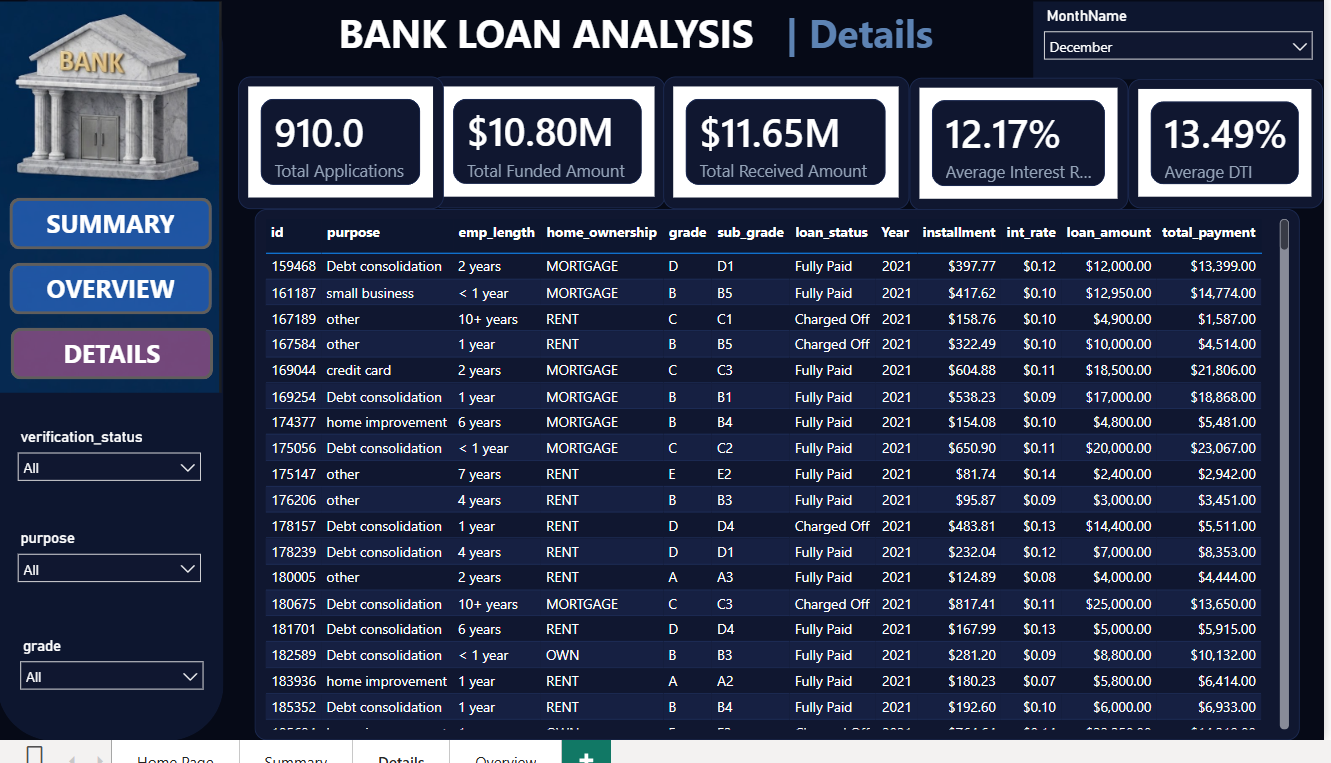

The page's visual inventory and layout, read from the dashboard file:
{"tool":"tableau","page":{"name":"Details","canvas":[1100,550],"ordinal":0},"visuals":[{"type":"image","param":"C:/Users/Dell/Pictures/PROJECTS/Bank_loan_analysis/3.png","box":[8,8,1084,534]},{"type":"parameter","param":"[Parameters].[Parameter 2]","box":[902,12,160,44]},{"type":"worksheet","title":"Total Amount Received","mark":"Automatic","box":[522,60,169,53]},{"type":"worksheet","title":"Average Interest Rate ","mark":"Automatic","box":[707,61,165,53]},{"type":"worksheet","title":"Average Dti","mark":"Automatic","box":[888,62,170,55]},{"type":"worksheet","title":"Total Loan Applications ","mark":"Automatic","box":[164,63,159,54]},{"type":"worksheet","title":"Total Funded Amount","mark":"Automatic","box":[347,64,165,47]},{"type":"text","box":[345,104,38,32]},{"type":"text","box":[464,105,44,32]},{"type":"text","box":[647,105,44,32]},{"type":"text","box":[709,105,44,32]},{"type":"text","box":[897,105,44,32]},{"type":"text","box":[526,107,44,32]},{"type":"text","box":[824,107,44,32]},{"type":"text","box":[1011,109,44,26]},{"type":"text","box":[169,110,44,20]},{"type":"text","box":[274,110,44,20]},{"type":"worksheet","title":"MTD Total Funded Amount","mark":"Automatic","box":[345,121,58,32]},{"type":"worksheet","title":"MoM Total Loan Applications ","mark":"Automatic","box":[269,124,57,29]},{"type":"worksheet","title":"MoM Average Interest Rate ","mark":"Automatic","box":[820,125,53,28]},{"type":"worksheet","title":"MTD Total Loan Applications","mark":"Automatic","box":[165,126,53,24]},{"type":"worksheet","title":"MTD Average Interest Rate","mark":"Automatic","box":[710,126,54,26]},{"type":"worksheet","title":"MTD Average Dti ","mark":"Automatic","box":[896,126,53,31]},{"type":"worksheet","title":"MoM Total Amount Received ","mark":"Automatic","box":[624,127,67,25]},{"type":"worksheet","title":"MoM Average Dti ","mark":"Automatic","box":[1005,127,57,28]},{"type":"worksheet","title":"MoM Total Funded Amount","mark":"Automatic","box":[456,128,57,27]},{"type":"worksheet","title":"MTD Total Amount Received","mark":"Automatic","box":[526,128,64,25]},{"type":"worksheet","title":"Sheet 33","mark":"Text","rows":["id","purpose","emp_length","home_ownership","grade","sub_grade","loan_status","issue_date"],"box":[159,159,898,379]},{"type":"dashboard-object","box":[26,195,112,33]},{"type":"dashboard-object","box":[26,234,112,33]},{"type":"filter","title":"Sheet 33","param":"[federated.0yqgnu00ocy87r1dif94p1s83zvb].[Good vs Bad Loan]","box":[13,328,138,42]},{"type":"filter","title":"Average Dti","param":"[federated.0yqgnu00ocy87r1dif94p1s83zvb].[none:purpose:nk]","box":[13,375,136,39]},{"type":"filter","title":"Average Dti","param":"[federated.0yqgnu00ocy87r1dif94p1s83zvb].[none:grade:nk]","box":[14,424,138,45]},{"type":"filter","title":"Average Dti","param":"[federated.0yqgnu00ocy87r1dif94p1s83zvb].[none:verification_status:nk]","box":[12,474,137,42]}]}

Visuals, with their boxes on the page's 1100x550 design canvas (x1, y1, x2, y2). These are canvas units, not pixel positions in the 1331x763 screenshot, which may show the page scaled, cropped or inside an application window:
image: (8,8,1092,542)
parameter: (902,12,1062,56)
"Total Amount Received" worksheet: (522,60,691,113)
"Average Interest Rate " worksheet: (707,61,872,114)
"Average Dti" worksheet: (888,62,1058,117)
"Total Loan Applications " worksheet: (164,63,323,117)
"Total Funded Amount" worksheet: (347,64,512,111)
text: (345,104,383,136)
text: (464,105,508,137)
text: (647,105,691,137)
text: (709,105,753,137)
text: (897,105,941,137)
text: (526,107,570,139)
text: (824,107,868,139)
text: (1011,109,1055,135)
text: (169,110,213,130)
text: (274,110,318,130)
"MTD Total Funded Amount" worksheet: (345,121,403,153)
"MoM Total Loan Applications " worksheet: (269,124,326,153)
"MoM Average Interest Rate " worksheet: (820,125,873,153)
"MTD Total Loan Applications" worksheet: (165,126,218,150)
"MTD Average Interest Rate" worksheet: (710,126,764,152)
"MTD Average Dti " worksheet: (896,126,949,157)
"MoM Total Amount Received " worksheet: (624,127,691,152)
"MoM Average Dti " worksheet: (1005,127,1062,155)
"MoM Total Funded Amount" worksheet: (456,128,513,155)
"MTD Total Amount Received" worksheet: (526,128,590,153)
"Sheet 33" worksheet (Text marks): (159,159,1057,538)
dashboard-object: (26,195,138,228)
dashboard-object: (26,234,138,267)
"Sheet 33" filter: (13,328,151,370)
"Average Dti" filter: (13,375,149,414)
"Average Dti" filter: (14,424,152,469)
"Average Dti" filter: (12,474,149,516)
